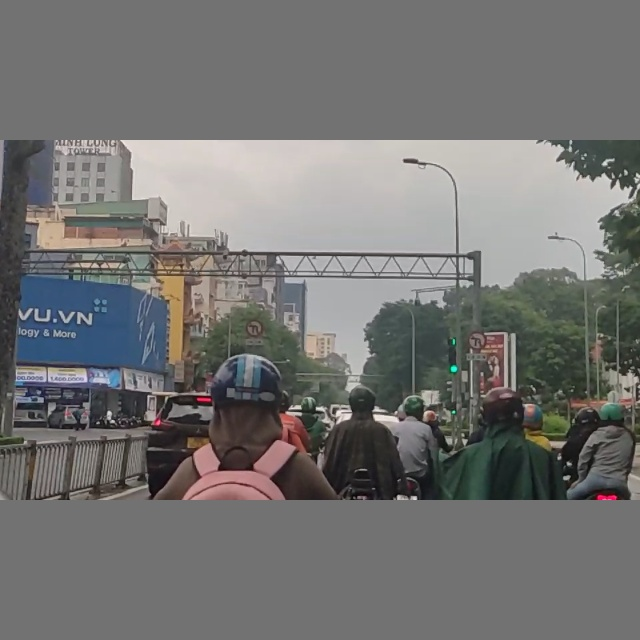P.124c: (467, 332, 487, 351), (246, 319, 264, 338)
